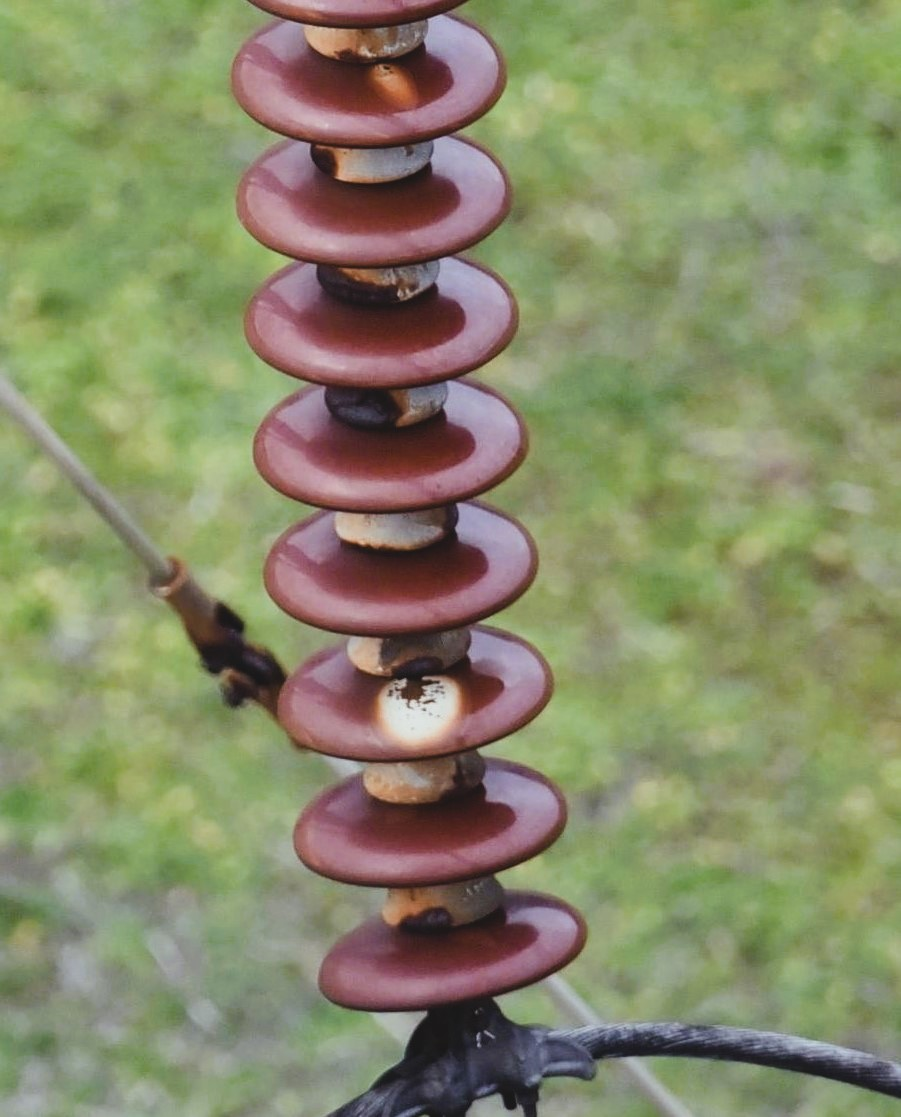Insulator flashover: (267, 621, 555, 765)
